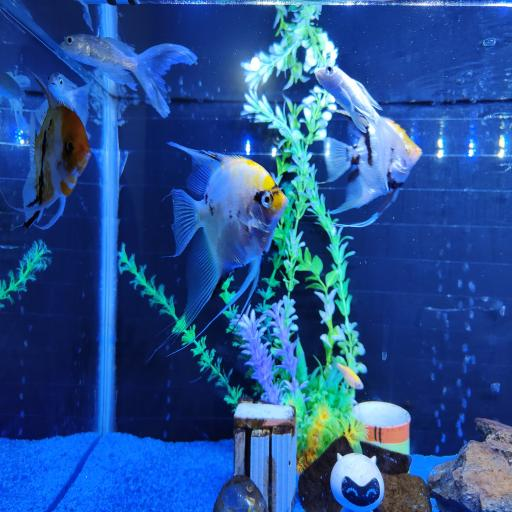Fish: (168, 143, 288, 332), (15, 76, 90, 229), (61, 34, 197, 117), (315, 66, 409, 171), (324, 118, 421, 214), (48, 73, 91, 127), (0, 72, 30, 131), (336, 362, 363, 389)
